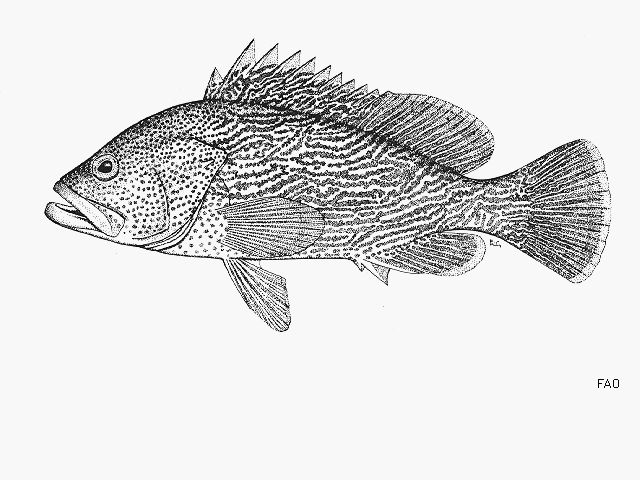fish: (44, 38, 611, 333)
